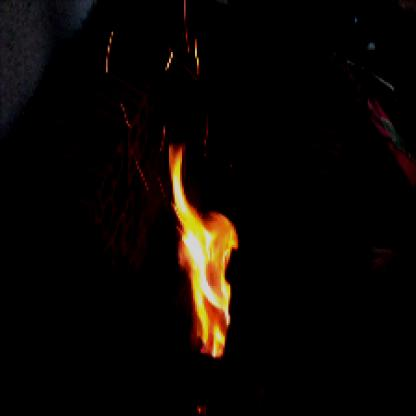Fire: (162, 136, 245, 362)
